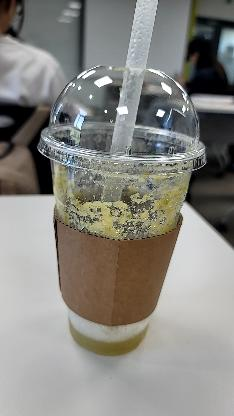Plastic Cup: (35, 62, 211, 358), (35, 63, 208, 180)
